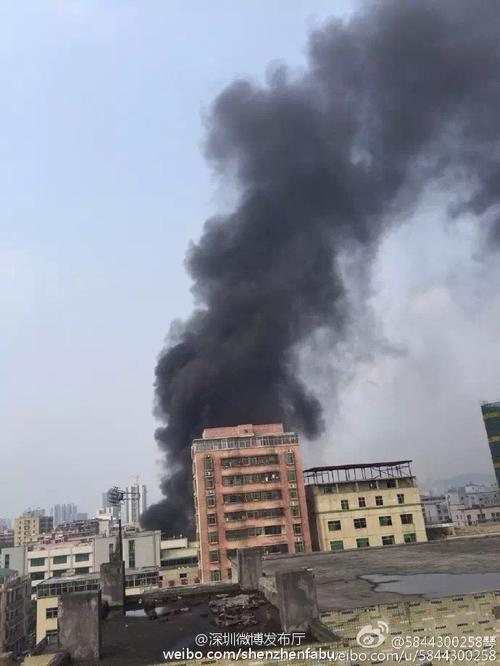smoke: (199, 87, 352, 420)
